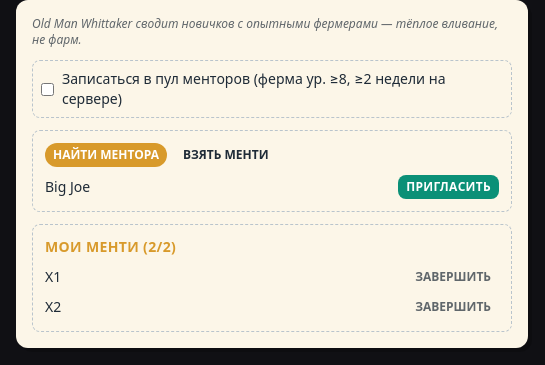
MentorPanel (11-town §3.7) › ментор с 2 менти не может взять третьего (кнопка disabled)
Click the button with test id "mentor-role-mentor" at (226, 155), box 175,143 -> 277,167
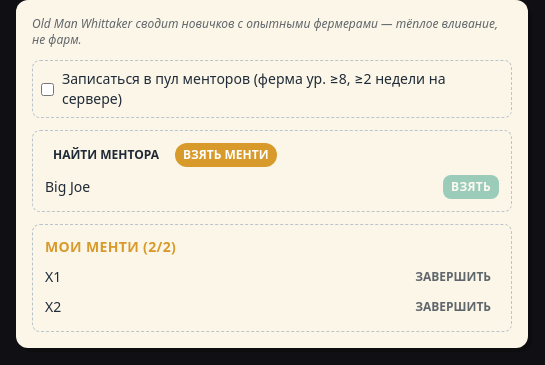
Expected: the button with test id "mentor-request-user_a" is disabled, 443,175 -> 499,199
